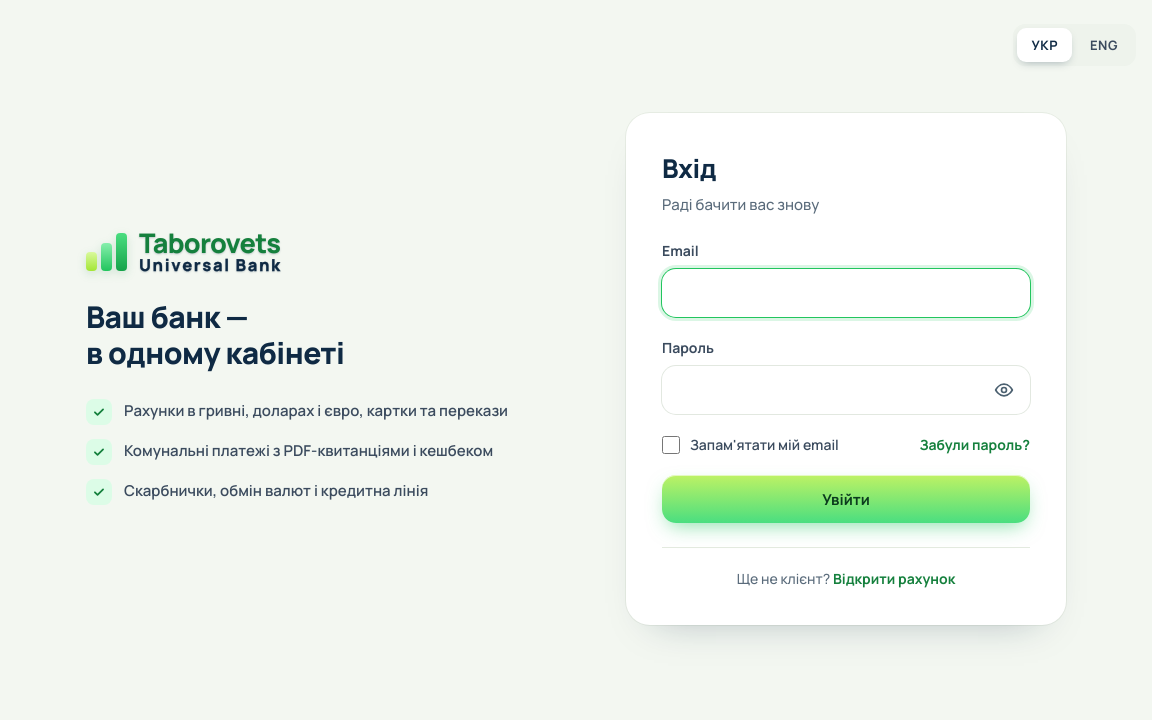
it: LoginPage › shows the bank's own explanation of a refused login
In the field labelled "Email": [846, 293] box x1=662 y1=269 x2=1030 y2=317, type "ivan@example.com"
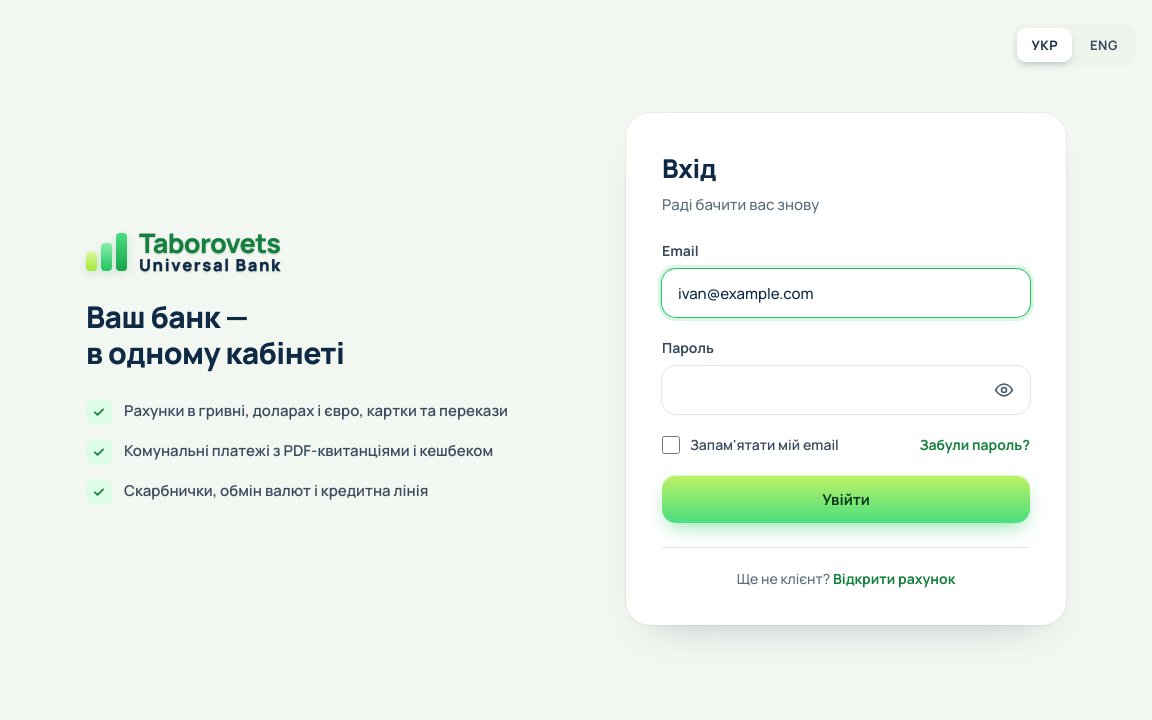
In the password field labelled "Пароль": [846, 390] box x1=662 y1=366 x2=1030 y2=414, type "wrong-password"
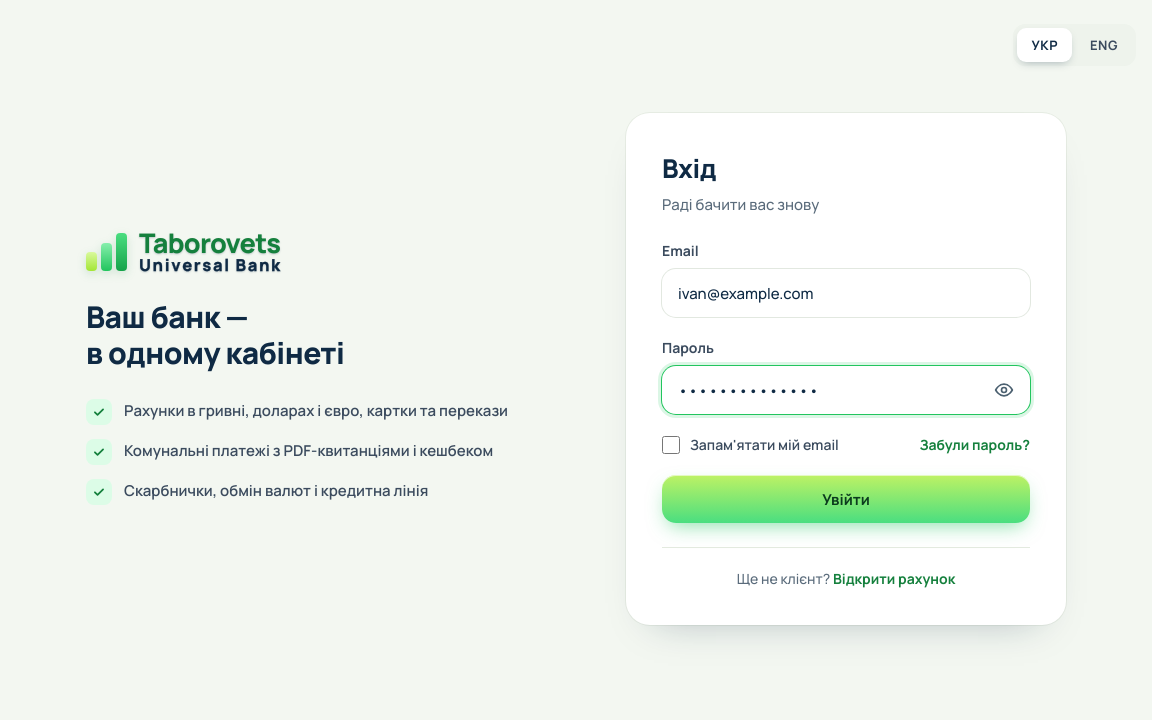
Click the button "Увійти": [846, 499] box x1=662 y1=475 x2=1030 y2=523
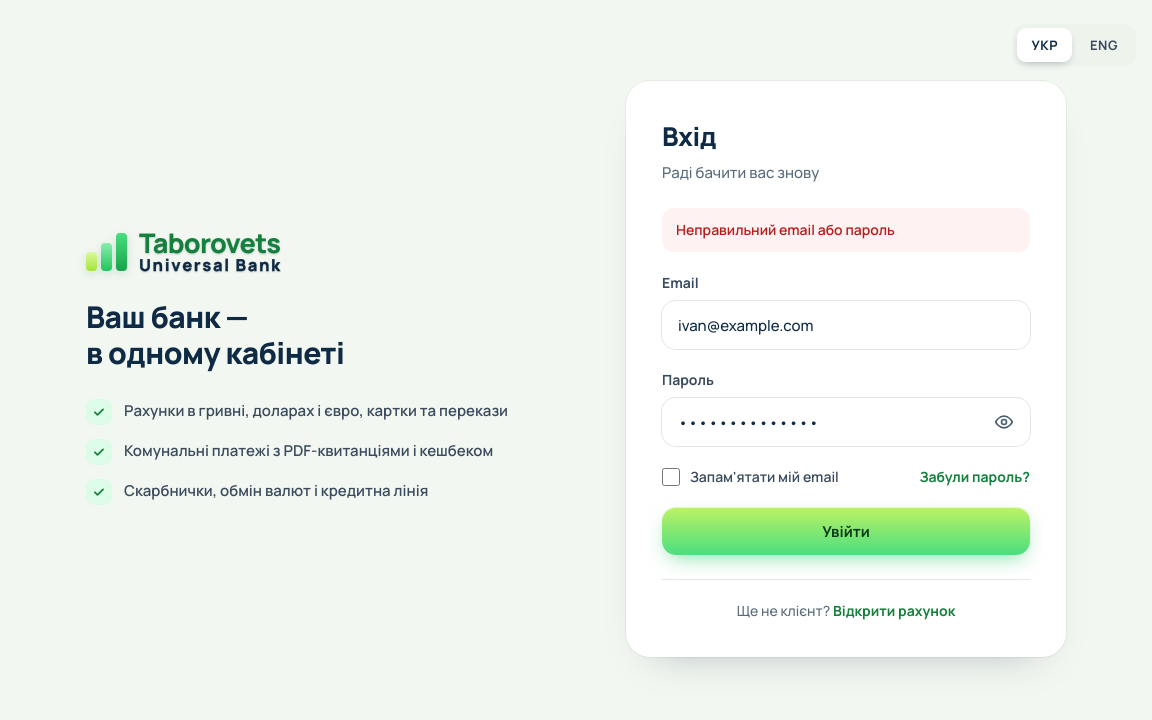
expect the message reads "Неправильний email або пароль": met, box x1=676 y1=220 x2=895 y2=239
